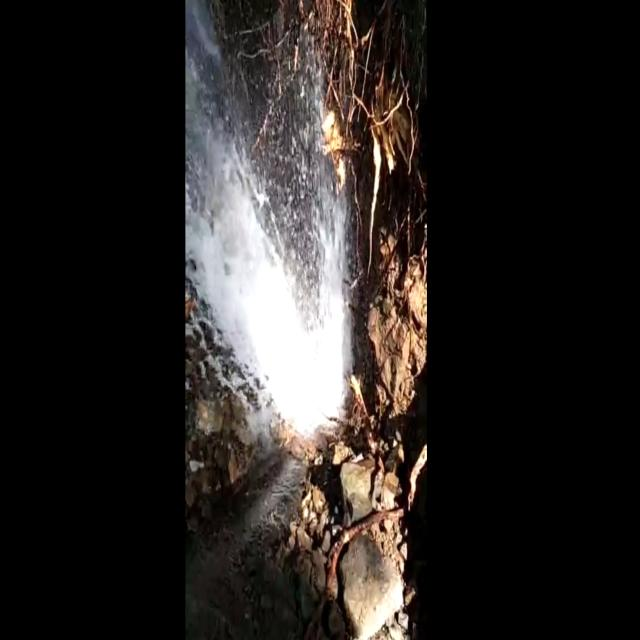leak: (186, 0, 349, 431)
